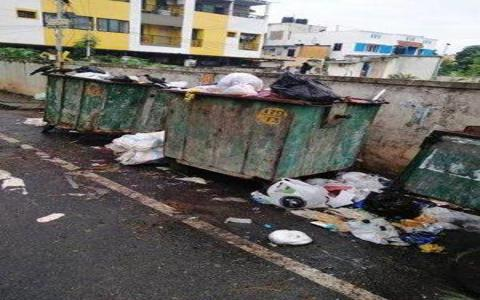overflowing garbage: (166, 65, 378, 208), (39, 66, 163, 169)
